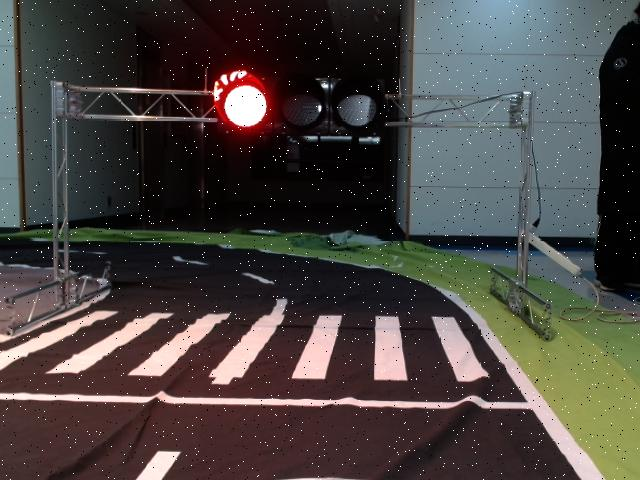crosswalk: (0, 309, 494, 386)
traffic light-red-: (212, 70, 387, 138)
